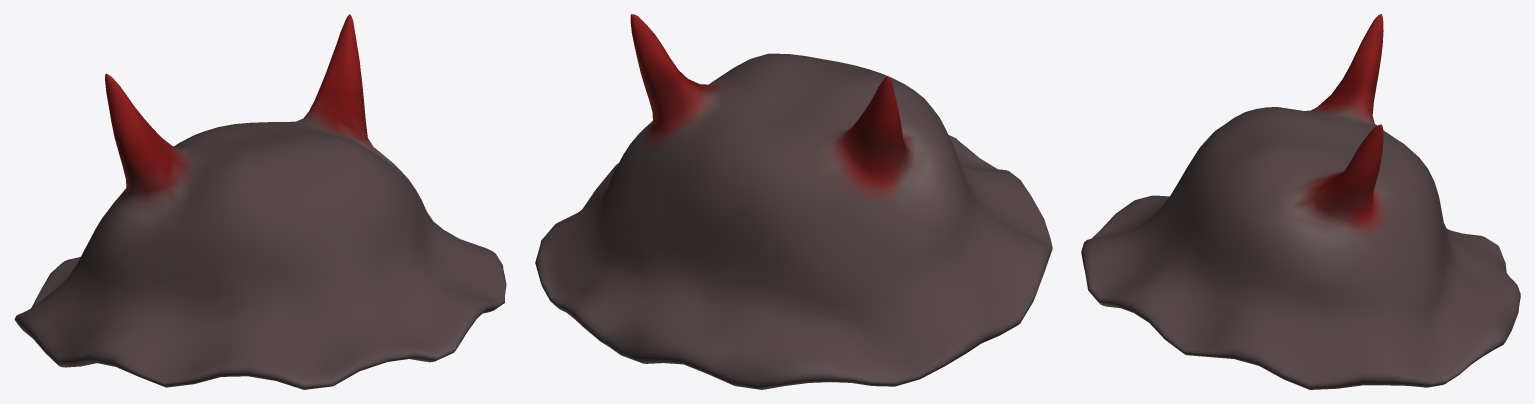
File: SM_ChapeuDiabin.fbx
The picture shows the model from 3 angles, left to right: view 1: azimuth 30°, elevation 25°; view 2: azimuth 150°, elevation 25°; view 3: azimuth 270°, elevation 25°; orthographic projection. The views are drawn at different scales.
Parts seen in each view (by area): view 1: PM3D_Sphere3D2; view 2: PM3D_Sphere3D2; view 3: PM3D_Sphere3D2.
Boxes of the visible parts, left/top/right/bottom form: PM3D_Sphere3D2: left=14, top=14, right=506, bottom=389; PM3D_Sphere3D2: left=535, top=14, right=1052, bottom=389; PM3D_Sphere3D2: left=1081, top=14, right=1520, bottom=389.
Bounding box in the file's own units: 2.75 × 1.67 × 2.69.
